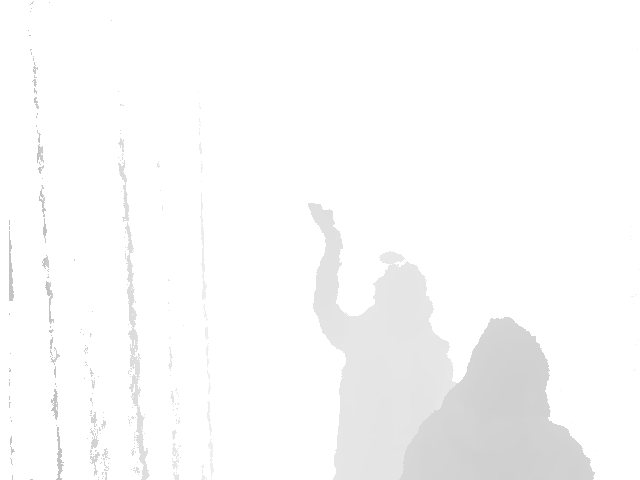hand: (307, 200, 343, 247)
head: (457, 319, 550, 416), (373, 252, 429, 323)
person: (307, 200, 454, 480), (398, 319, 597, 480)
